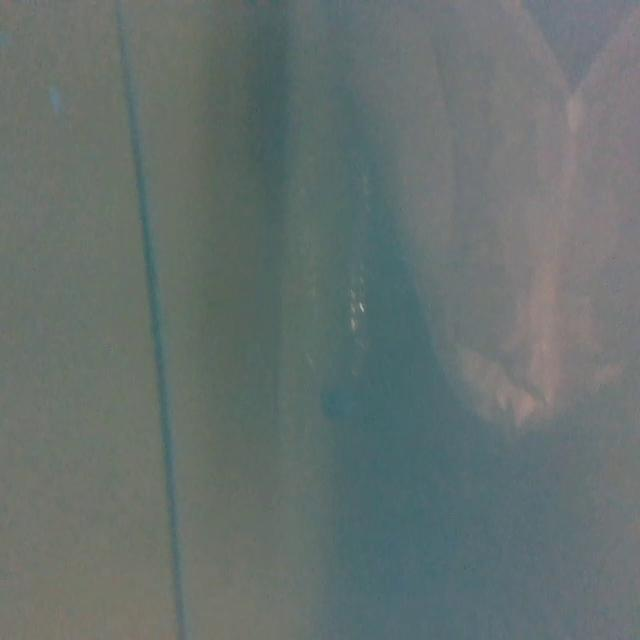plastic bags: (399, 0, 629, 439)
plastic bottle: (300, 137, 376, 435)
